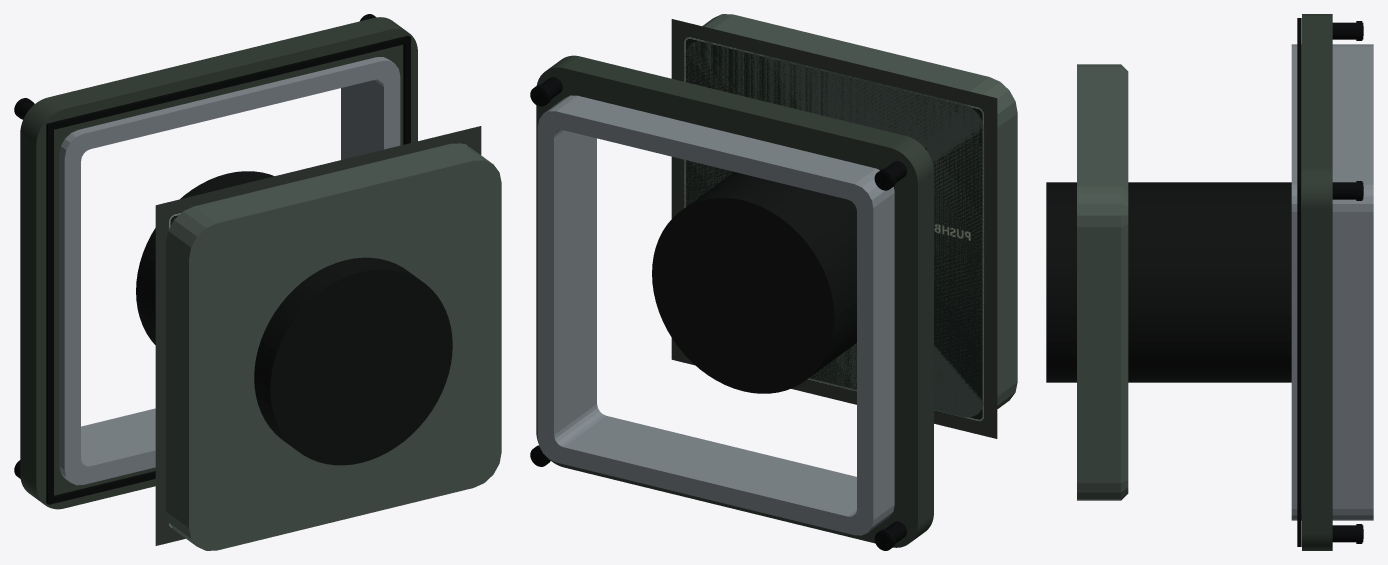
The model's file is MFDStudio.obj.
3 views of the same model, side by side, from view 1: azimuth 30°, elevation 25°; view 2: azimuth 150°, elevation 25°; view 3: azimuth 270°, elevation 25° (orthographic). The views are drawn at different scales.
Visible parts, largest first — view 1: MFDStudioActuator, MFDStudioMount, MFDStudioBody, MFDStudioScreen; view 2: MFDStudioMount, MFDStudioActuator, MFDStudioScreen, MFDStudioBody, MFDStudioScrews; view 3: MFDStudioMount, MFDStudioActuator, MFDStudioBody, MFDStudioScrews.
Part boxes in pixels (x1,y1,x2,y2): MFDStudioActuator: [166, 143, 501, 550]; MFDStudioMount: [59, 57, 452, 485]; MFDStudioBody: [20, 17, 417, 509]; MFDStudioScreen: [155, 126, 481, 545]; MFDStudioMount: [537, 95, 894, 535]; MFDStudioActuator: [684, 14, 1017, 417]; MFDStudioScreen: [671, 19, 997, 438]; MFDStudioBody: [536, 55, 933, 547]; MFDStudioScrews: [530, 77, 906, 550]; MFDStudioMount: [1046, 44, 1373, 520]; MFDStudioActuator: [1077, 64, 1128, 500]; MFDStudioBody: [1297, 14, 1332, 550]; MFDStudioScrews: [1332, 21, 1363, 543].
Bounding box in the file's own units: 0.041 × 0.041 × 0.032.
Materials: 8 (1 with a texture image).
